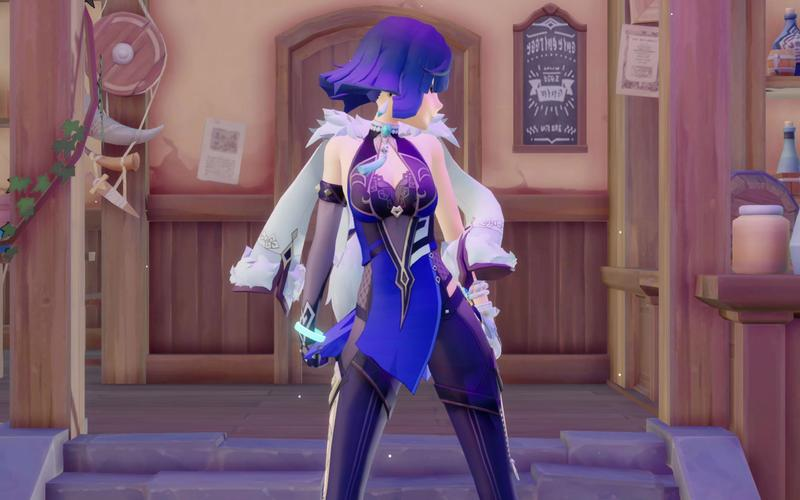夜兰: (293, 15, 523, 496)
